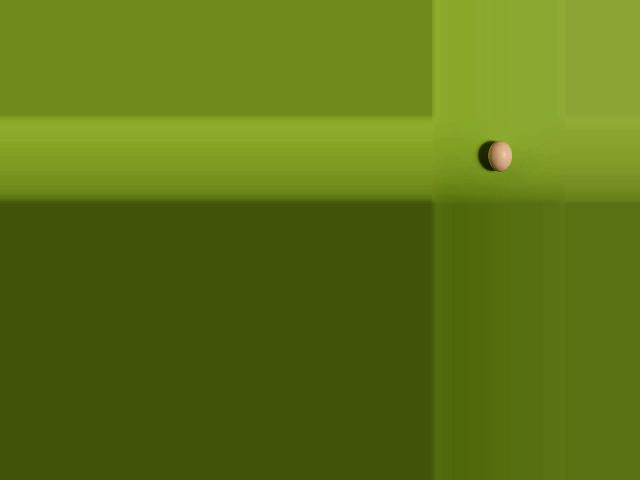egg: (487, 141, 510, 172)
